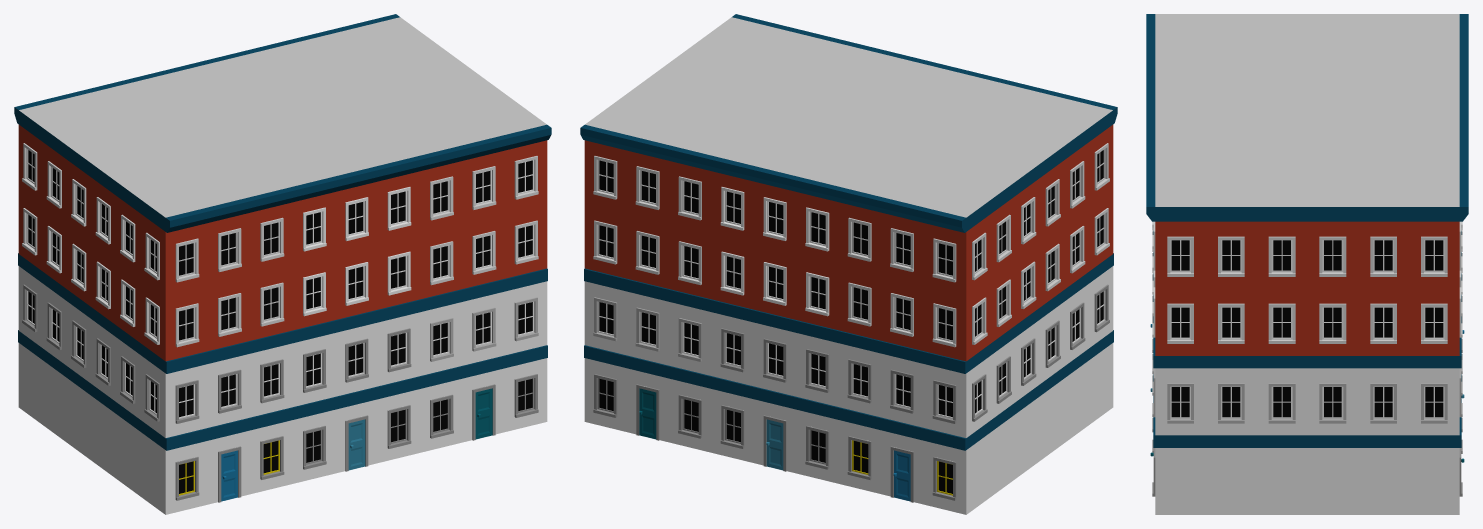
The model's file is Classical-01.fbx.
3 renders of one model, left to right at view 1: azimuth 30°, elevation 25°; view 2: azimuth 150°, elevation 25°; view 3: azimuth 270°, elevation 25°, orthographic. The views are drawn at different scales.
Visible parts, largest first — view 1: Building; view 2: Building; view 3: Building.
Part boxes in pixels (x1,y1,x2,y2): Building: (14,14,551,514); Building: (580,14,1117,514); Building: (1146,14,1468,514).
Size of what is drawn, in the model's own units: 18.23 by 13.4 by 12.7.
